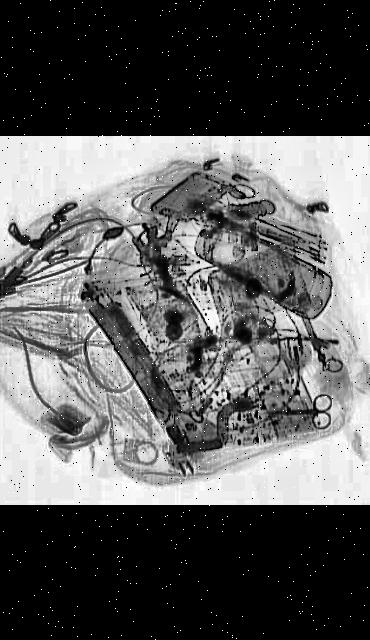Scissors: (262, 394, 332, 432)
